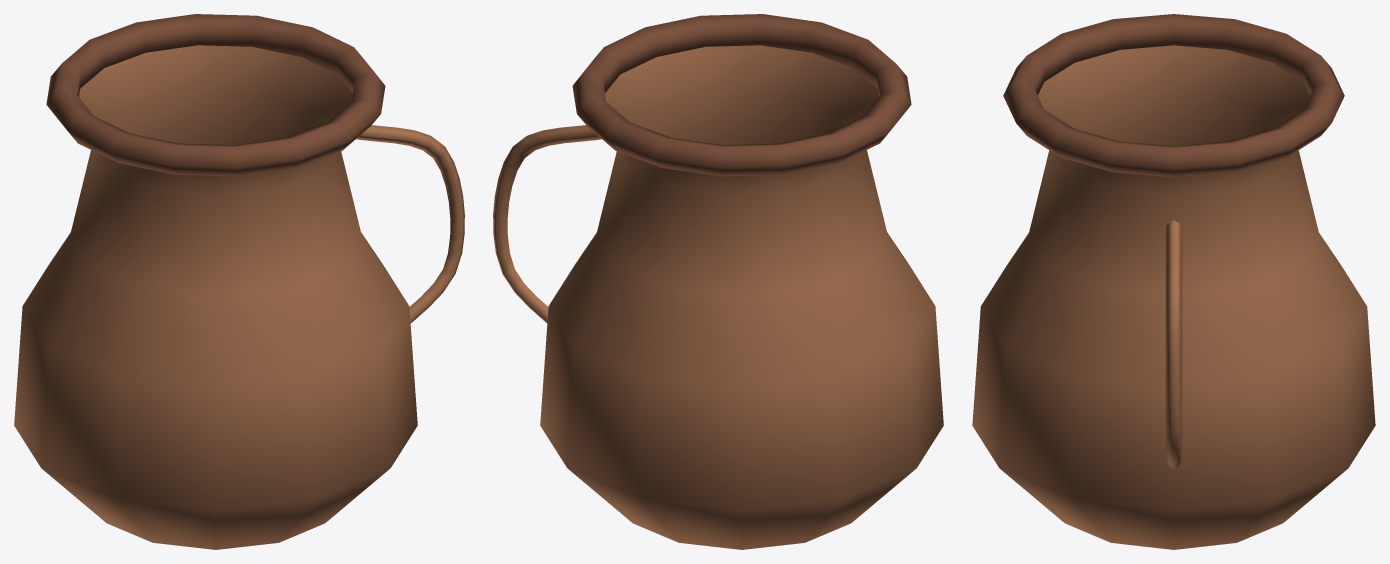
File: load_jug.glb
The picture shows the model from 3 angles, left to right: view 1: azimuth 30°, elevation 25°; view 2: azimuth 150°, elevation 25°; view 3: azimuth 270°, elevation 25°; orthographic projection.
Parts seen in each view (by area): view 1: part_0, part_1; view 2: part_0, part_1; view 3: part_0, part_1.
Boxes of the visible parts, bbox=[...] form: part_0: bbox=[14, 45, 464, 549]; part_1: bbox=[46, 14, 385, 176]; part_0: bbox=[493, 45, 943, 549]; part_1: bbox=[572, 14, 911, 176]; part_0: bbox=[972, 45, 1375, 549]; part_1: bbox=[1003, 14, 1344, 177].
Size of the model in its own units: 0.2443 by 0.2432 by 0.2016.
